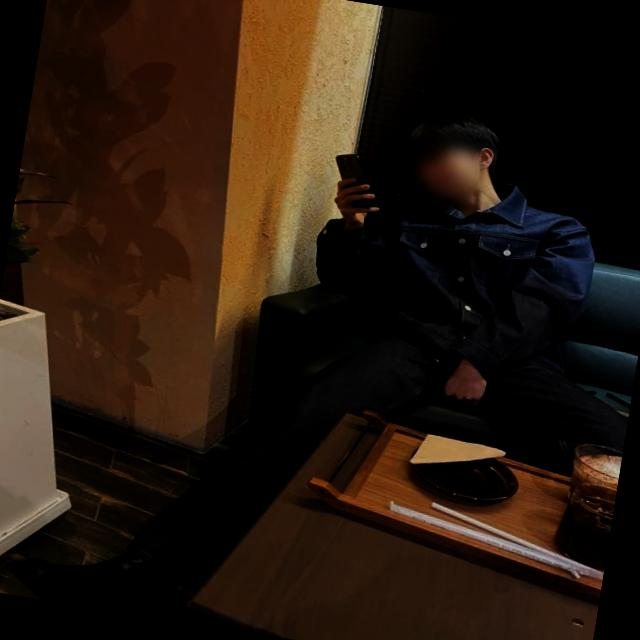denimpants: (129, 291, 637, 640)
jacket: (301, 152, 608, 390)
